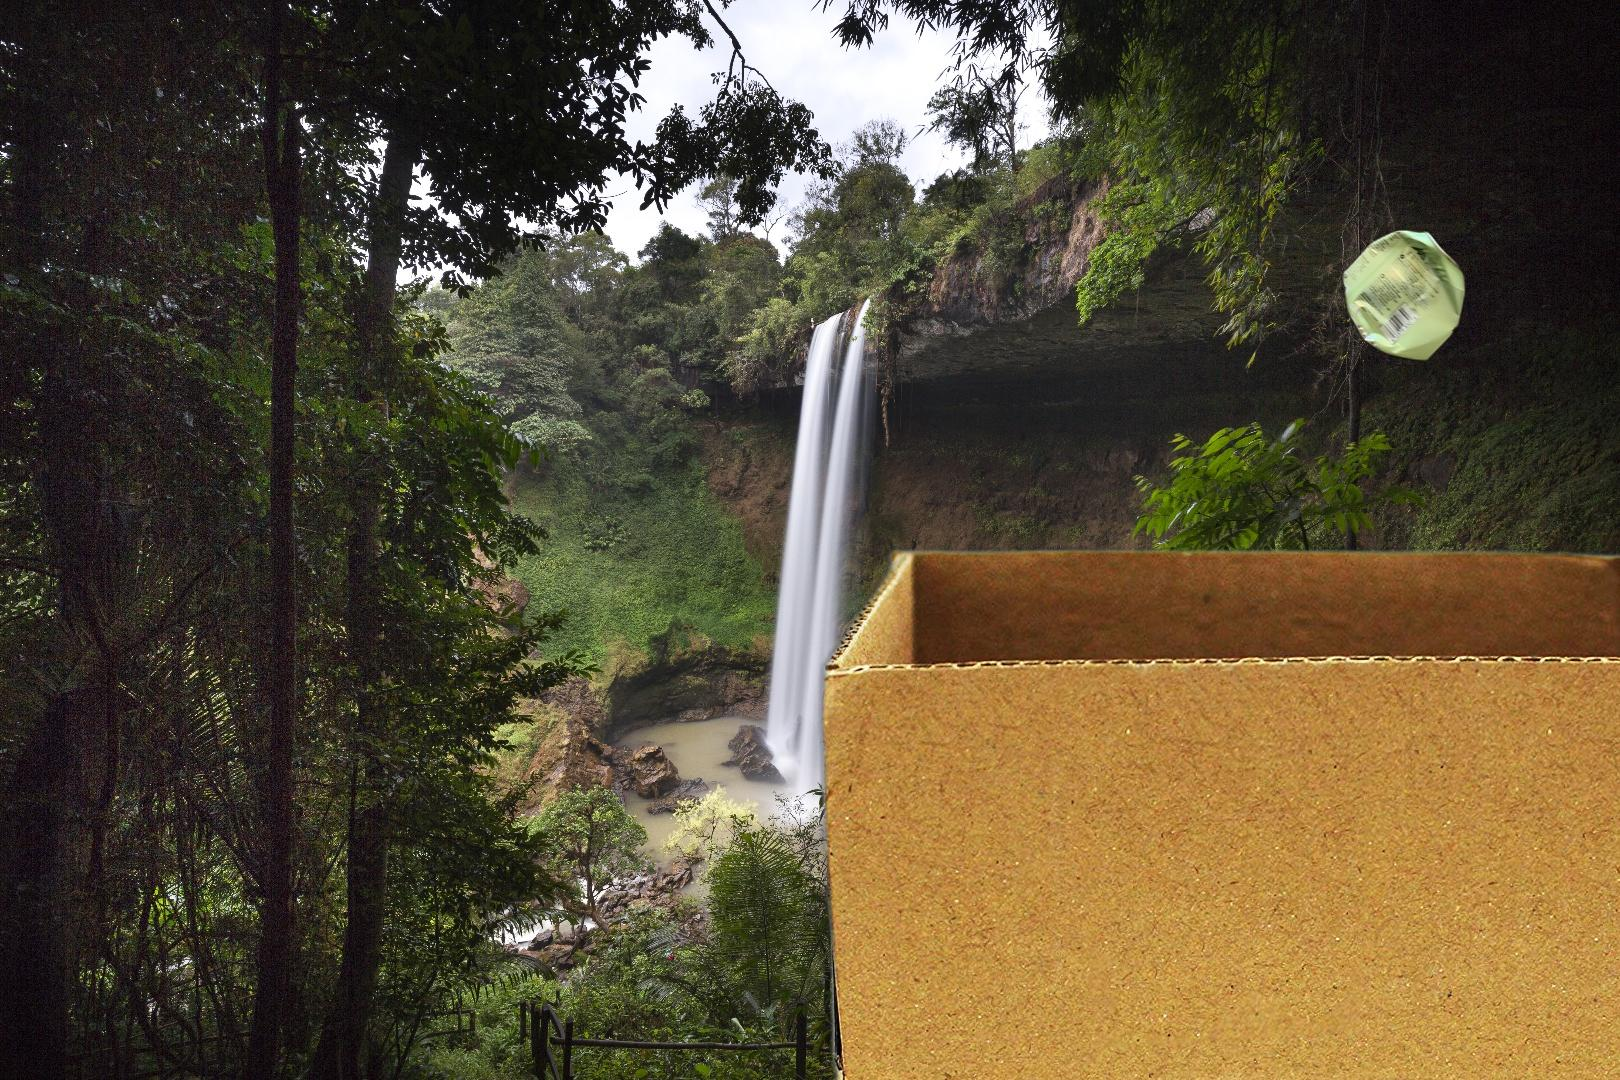metal-cans: (1337, 223, 1471, 366)
trashbox-cardboard: (808, 535, 1620, 1080), (538, 990, 1081, 1080)
